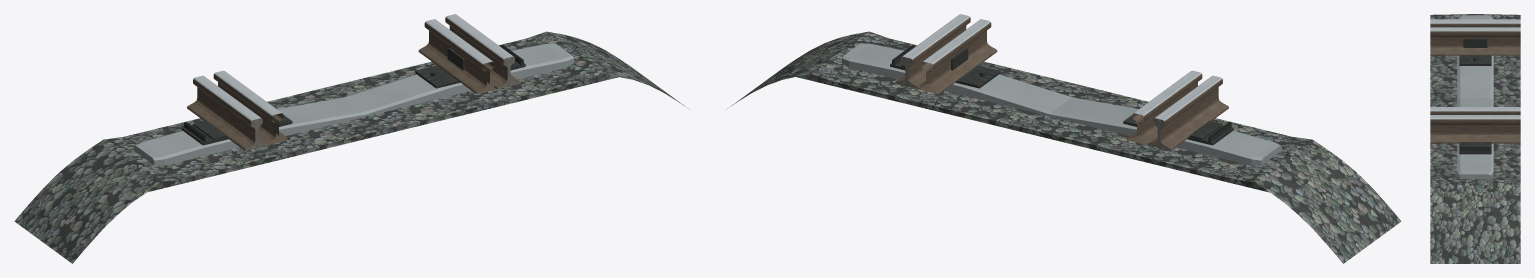
File: outer_guard_mid.obj
3 renders of one model, left to right at view 1: azimuth 30°, elevation 25°; view 2: azimuth 150°, elevation 25°; view 3: azimuth 270°, elevation 25°, orthographic. The views are drawn at different scales.
Parts seen in each view (by area): view 1: ballast, sleeper, outer_guard_right, rail_left, outer_guard_left, rail_right, outer_fastener_right, fastener_left; view 2: ballast, sleeper, outer_guard_right, rail_left, outer_guard_left, rail_right, outer_fastener_right, fastener_left; view 3: ballast, sleeper, rail_right, outer_guard_left, rail_left, outer_guard_right, outer_fastener_left, fastener_right, outer_fastener_right.
Boxes of the visible parts, left/top/right/bottom form: ballast: left=14, top=31, right=688, bottom=263; sleeper: left=134, top=43, right=573, bottom=165; outer_guard_right: left=418, top=19, right=498, bottom=94; rail_left: left=187, top=75, right=266, bottom=150; outer_guard_left: left=213, top=70, right=289, bottom=144; rail_right: left=445, top=14, right=519, bottom=88; outer_fastener_right: left=415, top=47, right=525, bottom=88; fastener_left: left=184, top=120, right=226, bottom=142; ballast: left=727, top=31, right=1401, bottom=263; sleeper: left=842, top=43, right=1281, bottom=165; outer_guard_right: left=917, top=19, right=997, bottom=94; rail_left: left=1149, top=75, right=1228, bottom=150; outer_guard_left: left=1126, top=70, right=1202, bottom=144; rail_right: left=896, top=14, right=970, bottom=88; outer_fastener_right: left=890, top=47, right=1000, bottom=88; fastener_left: left=1189, top=120, right=1231, bottom=142; ballast: left=1430, top=14, right=1520, bottom=263; sleeper: left=1457, top=15, right=1493, bottom=179; rail_right: left=1430, top=115, right=1520, bottom=143; outer_guard_left: left=1430, top=27, right=1520, bottom=55; rail_left: left=1430, top=19, right=1520, bottom=27; outer_guard_right: left=1430, top=107, right=1520, bottom=114; outer_fastener_left: left=1459, top=38, right=1491, bottom=65; fastener_right: left=1459, top=142, right=1491, bottom=151; outer_fastener_right: left=1459, top=144, right=1491, bottom=154.
Size of the model in its own units: 3.7 by 0.5683 by 0.6.
